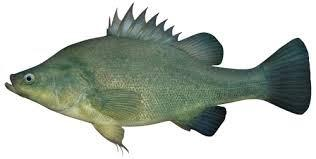Silver Perch: (1, 3, 312, 156)
